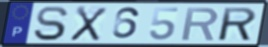5: (148, 6, 180, 41)
6: (111, 6, 141, 42)
R: (180, 6, 221, 42), (218, 6, 258, 42)
S: (31, 5, 71, 42)
X: (68, 5, 109, 42)
